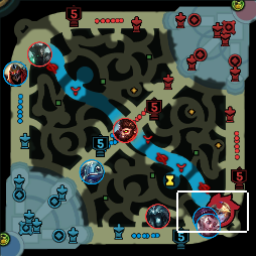ezreal: (206, 199, 231, 224)
fizz: (78, 159, 103, 184)
karthus: (145, 202, 169, 228)
monkeyking: (112, 118, 136, 142)
mordekaiser: (27, 40, 52, 65)
rakan: (196, 214, 219, 237)
zed: (2, 59, 27, 86)
